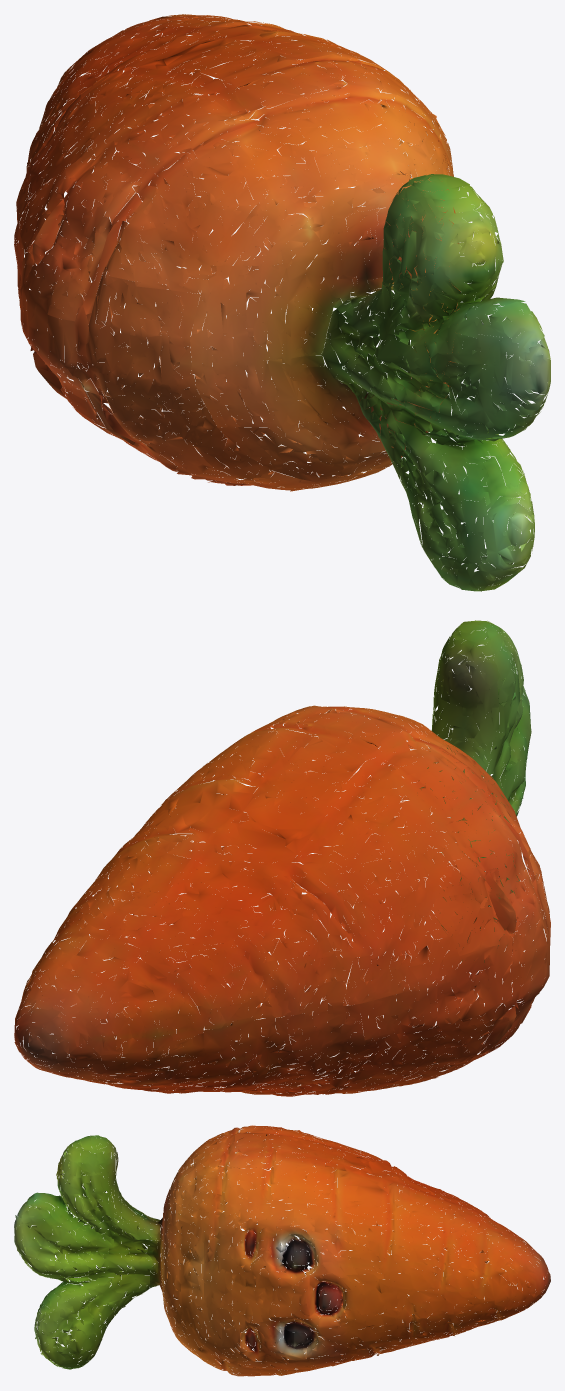
Rendered from veg_carrot.glb.
The picture shows the model from 3 angles, top to bottom: view 1: azimuth 30°, elevation 25°; view 2: azimuth 150°, elevation 25°; view 3: azimuth 270°, elevation 25°; orthographic projection. The views are drawn at different scales.
Visible parts, largest first — view 1: mesh.obj; view 2: mesh.obj; view 3: mesh.obj.
Part boxes in pixels (left/top/right/bottom): mesh.obj: left=14, top=14, right=550, bottom=591; mesh.obj: left=14, top=620, right=550, bottom=1096; mesh.obj: left=14, top=1125, right=550, bottom=1376.
Size of the model in its own units: 0.5074 by 0.4659 by 1.01.
1 material, 1 textured.
